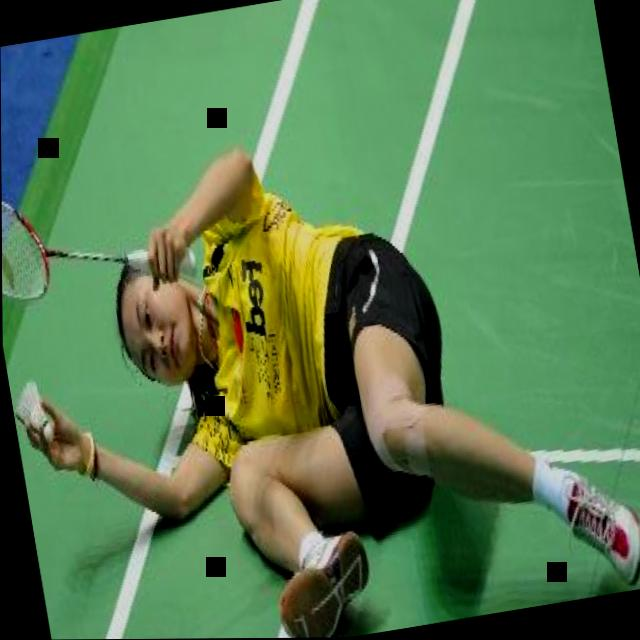Fall-Detected: (0, 60, 640, 640)
